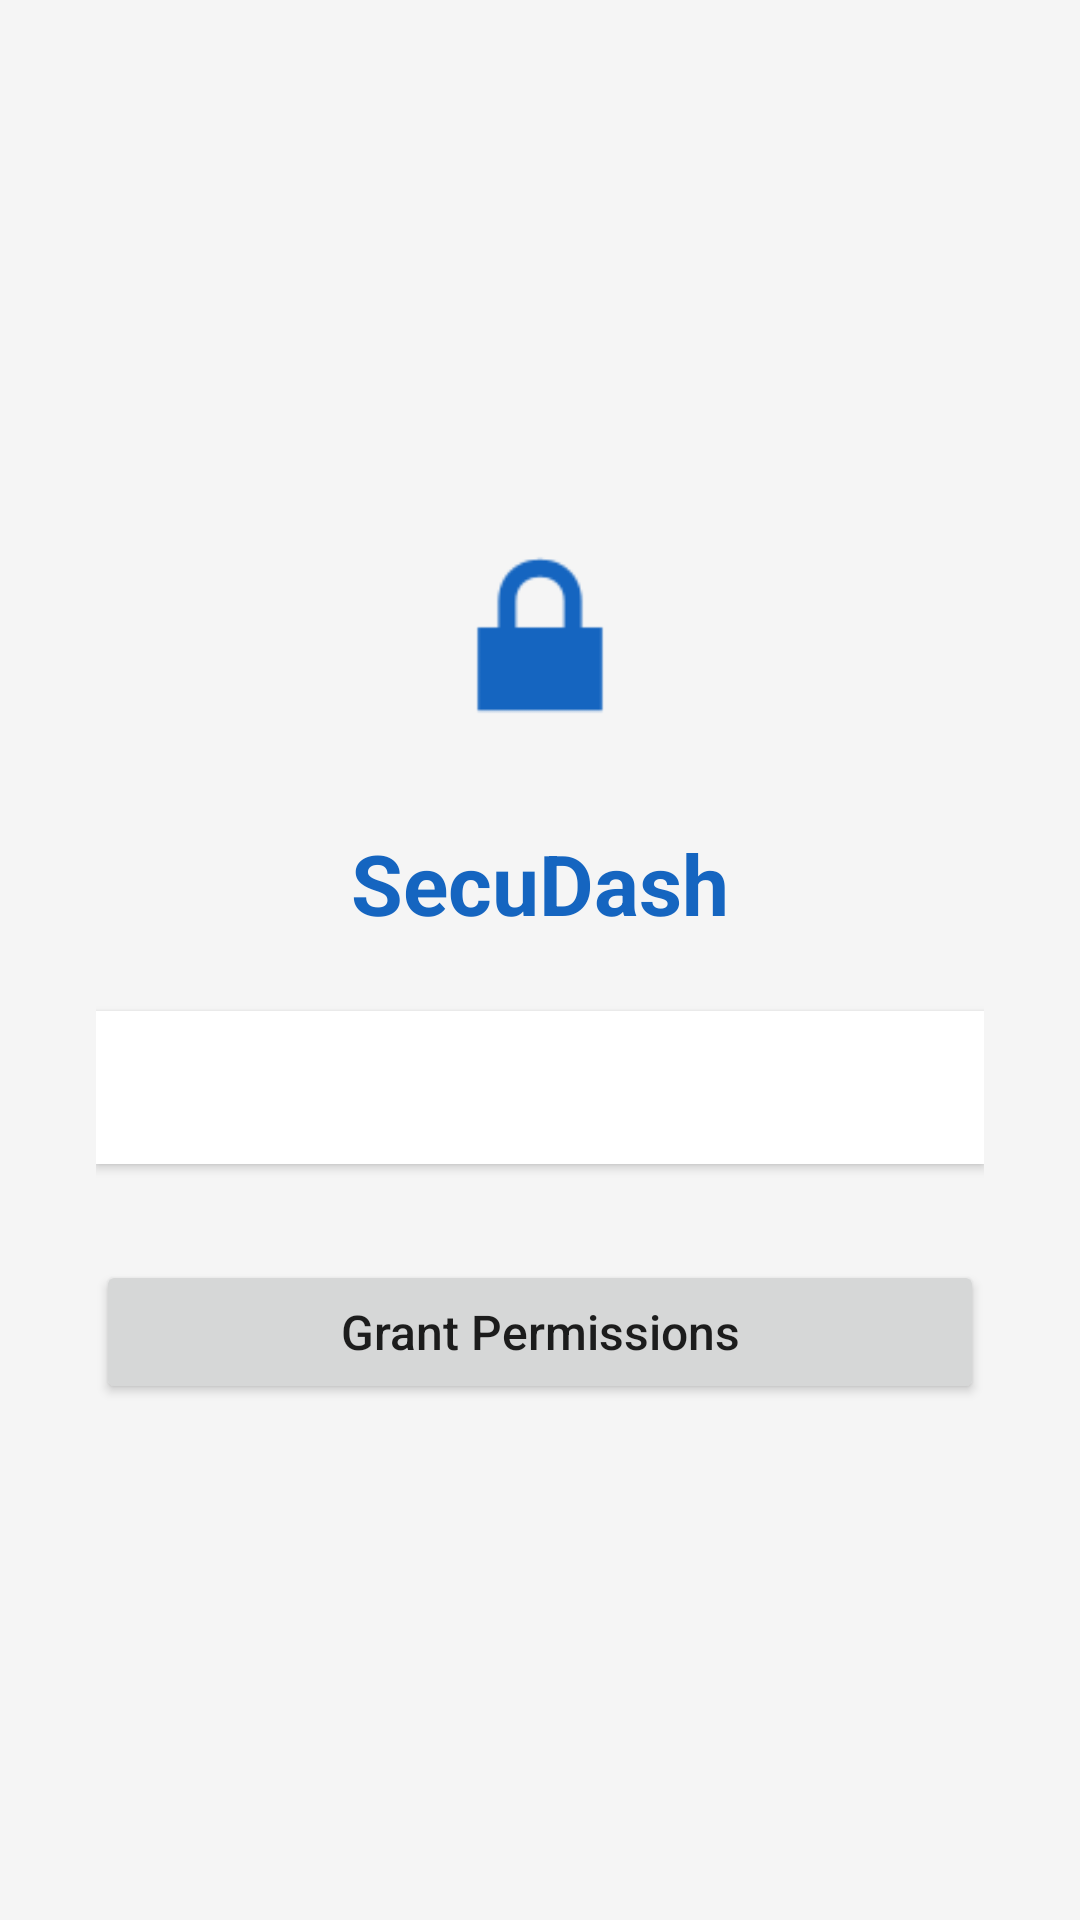

Icons on this 1080w x 1920h Android screen, each with its box as (x1, y1, x2, y2):
lock: (477, 558, 603, 712)
